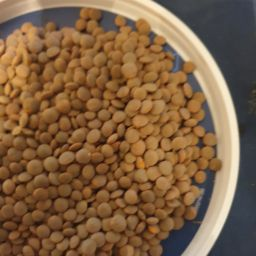Black Lentil(masoor daal): (9, 14, 223, 181), (3, 125, 201, 238), (7, 192, 167, 256)
